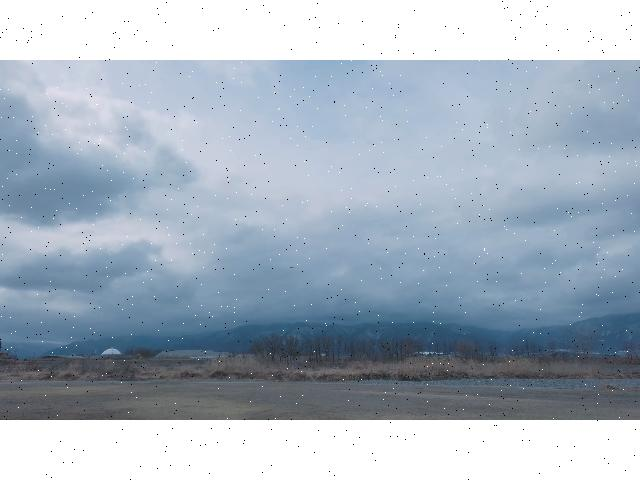Anti-Drone: (288, 264, 298, 270)
